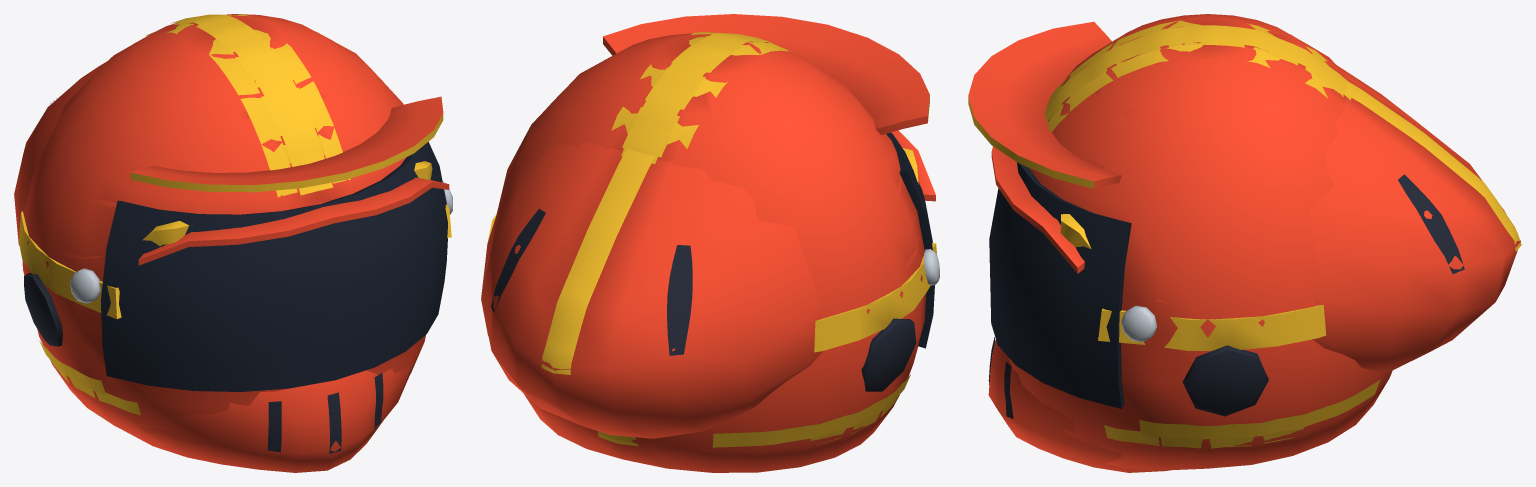
Rendered from headgear.glb.
3 views of the same model, side by side, from view 1: azimuth 30°, elevation 25°; view 2: azimuth 150°, elevation 25°; view 3: azimuth 270°, elevation 25° (orthographic). The views are drawn at different scales.
Visible parts, largest first — view 1: Bob helmet, Bmx helmet, Ski helmet, Kayak helmet, Road helmet; view 2: Road helmet, Bob helmet, Bmx helmet, Ski helmet, Kayak helmet; view 3: Bob helmet, Road helmet, Bmx helmet, Ski helmet, Kayak helmet.
Part boxes in pixels (x1,y1,x2,y2): Bob helmet: (22,14,452,445); Bmx helmet: (52,18,443,472); Ski helmet: (18,14,451,346); Kayak helmet: (138,177,449,265); Road helmet: (14,62,105,245); Road helmet: (481,141,823,438); Bob helmet: (496,33,939,472); Bmx helmet: (597,14,929,447); Ski helmet: (488,32,936,391); Kayak helmet: (891,130,935,201); Bob helmet: (989,14,1392,470); Road helmet: (1309,65,1521,372); Bmx helmet: (968,21,1343,472); Ski helmet: (1047,20,1332,416); Kayak helmet: (991,146,1084,273).
Bounding box in the file's own units: 0.6167 × 0.5836 × 0.7267.
